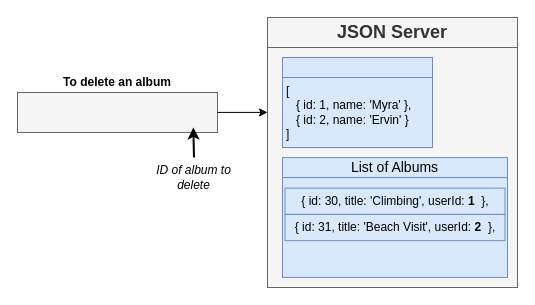
The diagram is 535 pixels wide and 305 high, and some of its shapes have lost their labels. Here are the shapes that lost their labels. From the top down, the centre of each, then its label:
At point 357,67: "List of Users".
At point 117,112: "DELETE http://localhost:3005/albums/33".
